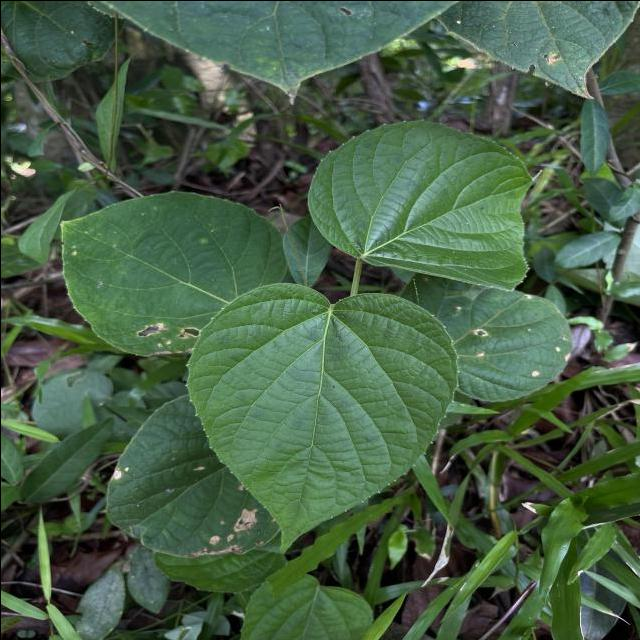Clerodendrum infortunatum: (182, 280, 460, 554), (304, 116, 542, 293), (58, 187, 288, 358)
